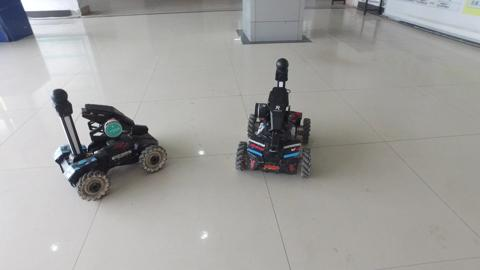chariot: (44, 84, 170, 204), (228, 55, 313, 180)
